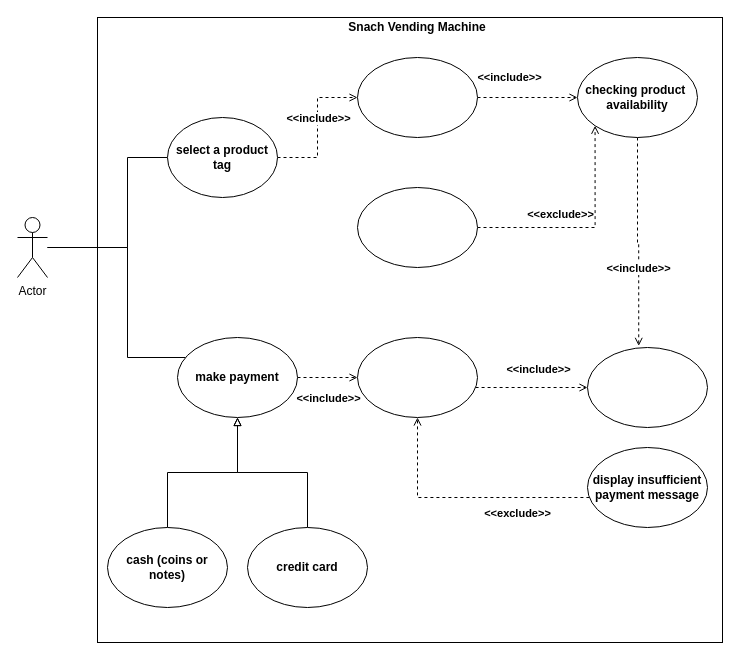
The diagram is 740 pixels wide and 660 high, and some of its shapes have lost their labels. Each missing label, with the centre of its shape:
"checking product tag validation" belongs at point (417, 97).
"display product not available message" belongs at point (417, 227).
"return product" belongs at point (647, 387).
"verify sufficient payment" belongs at point (417, 377).
